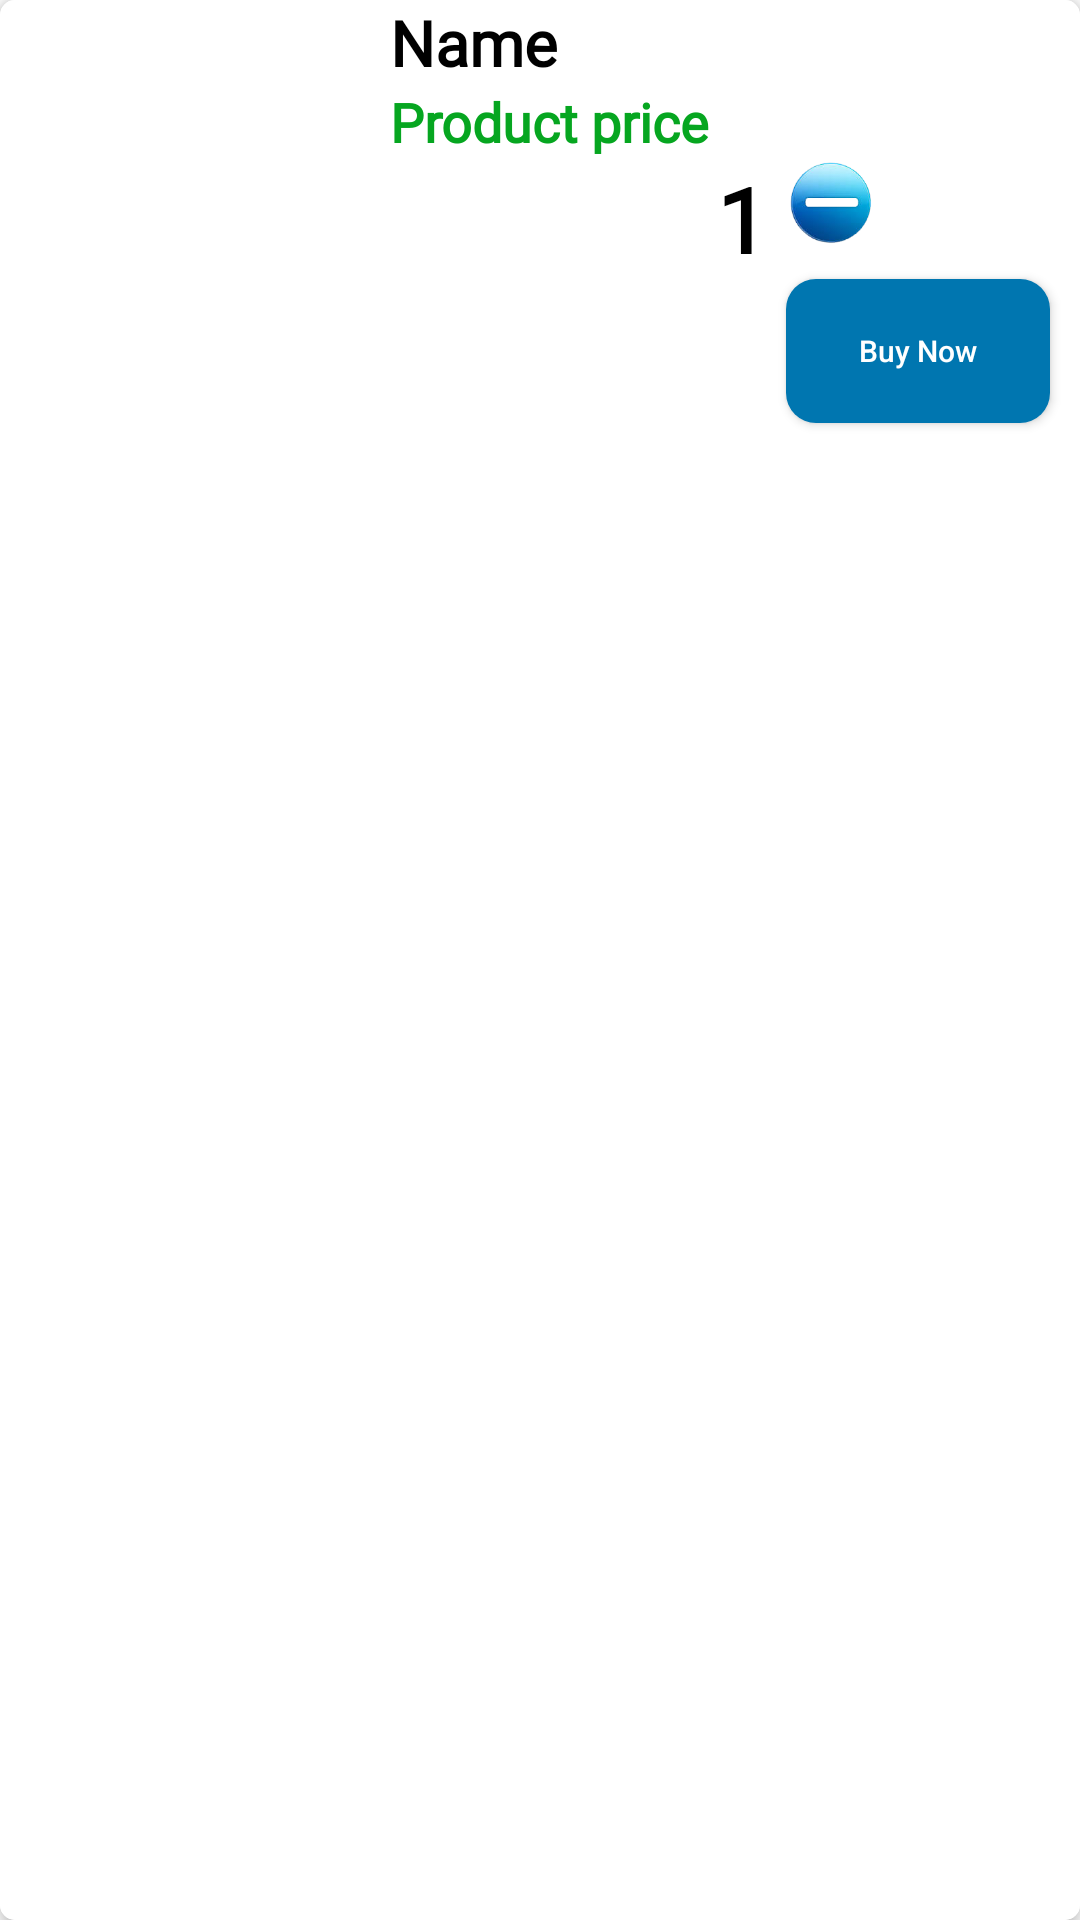

Icon click points for this 1080px x 1920px phone screenshot, format point (x, y):
minus: point (831, 202)
